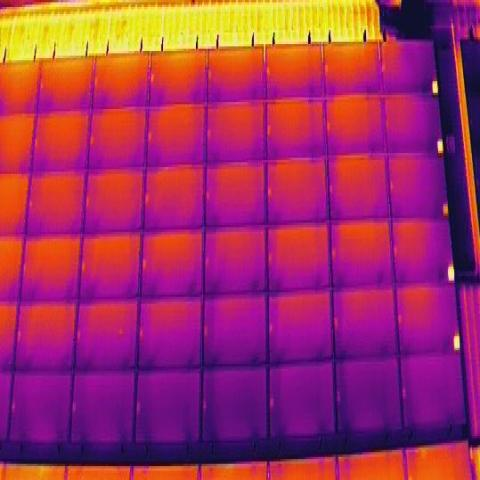fault: (445, 258, 456, 286), (434, 133, 445, 159), (451, 330, 462, 356), (430, 76, 440, 98), (441, 198, 450, 219)
